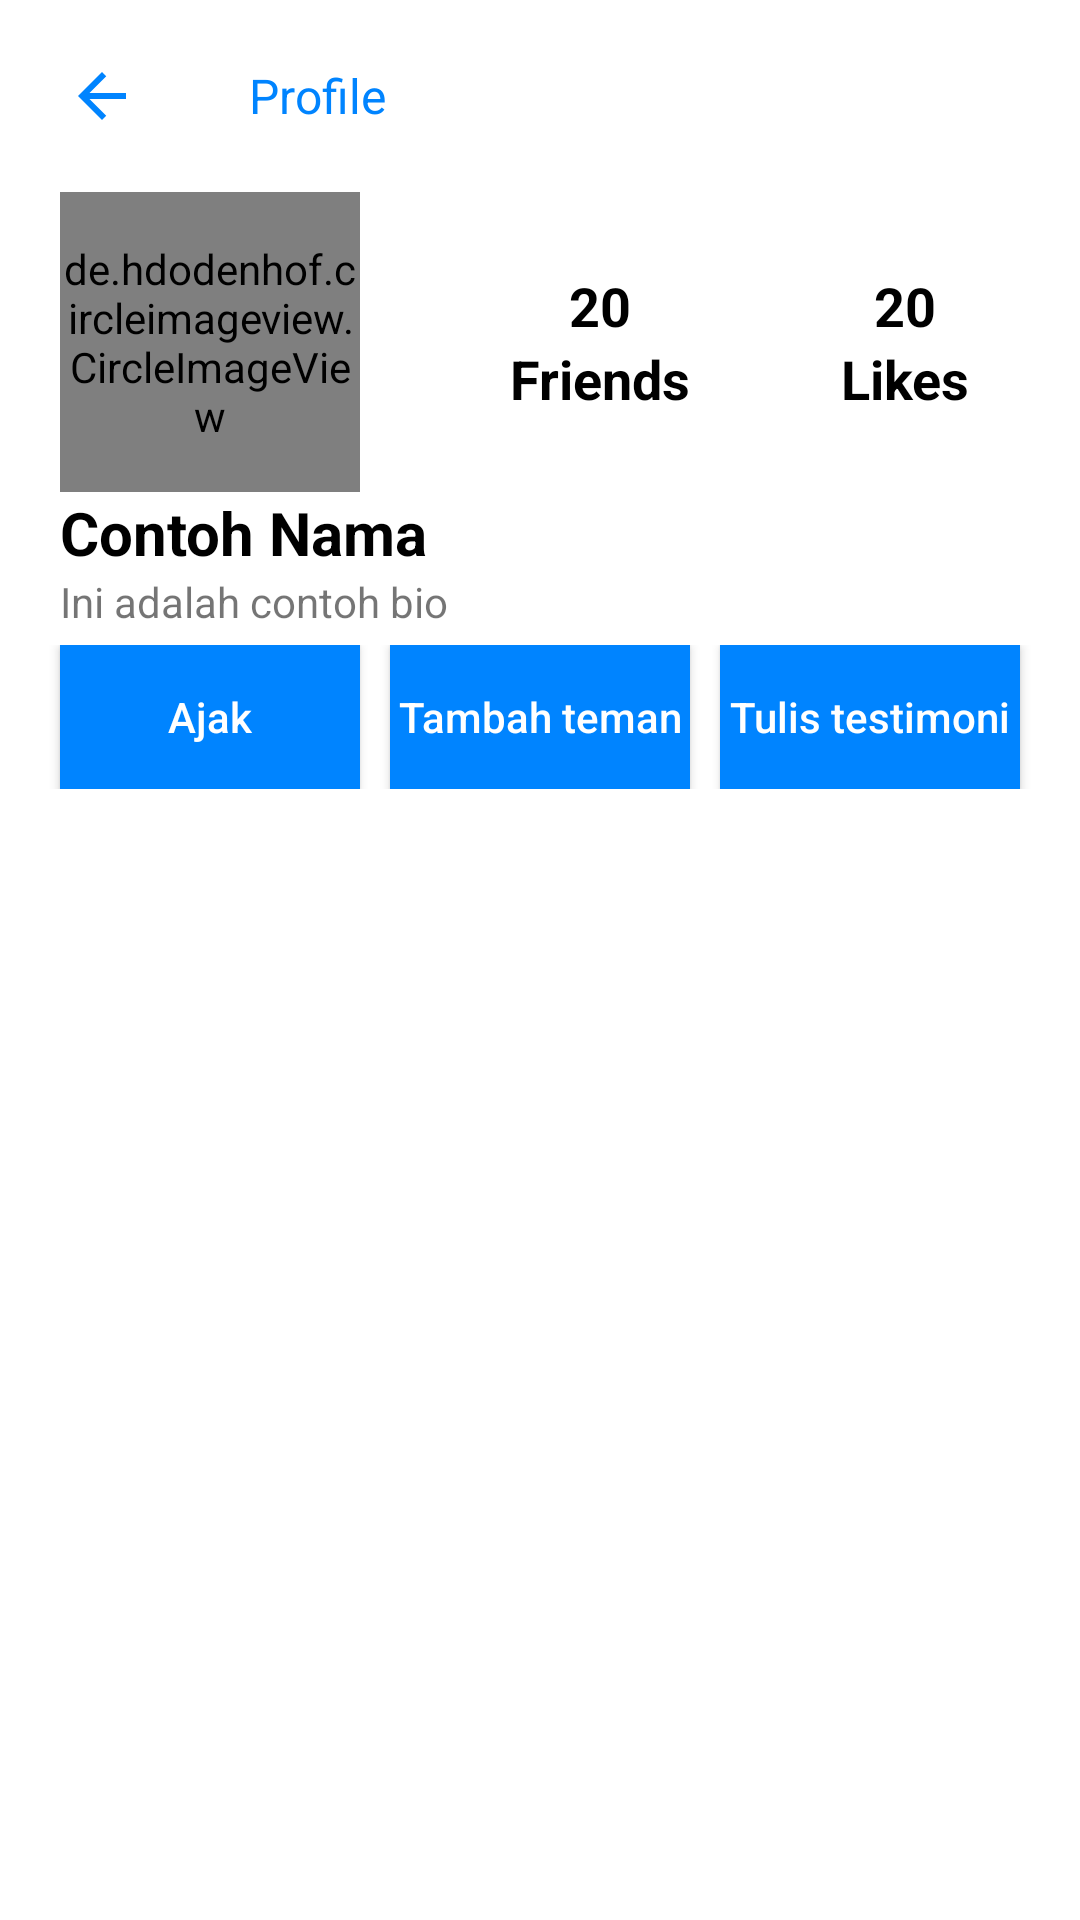

Icon click points for this 1080 × 1920 phone screenshot, format (x=x, y=y):
back: (x=102, y=96)
